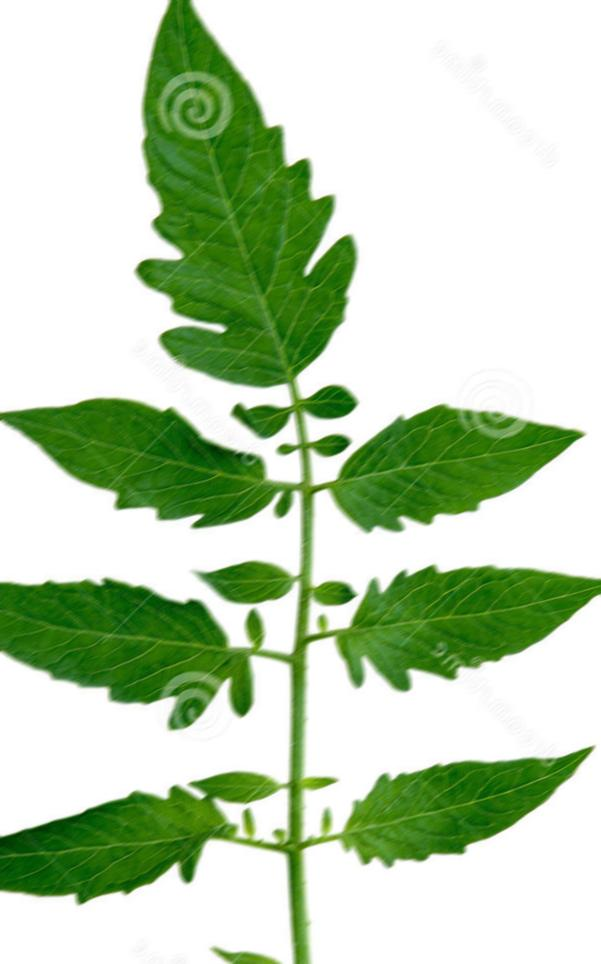Tomato leaf: (121, 0, 364, 404), (298, 716, 601, 893), (0, 393, 300, 552), (292, 548, 601, 701), (0, 550, 232, 740), (0, 765, 247, 935), (330, 380, 589, 537)
